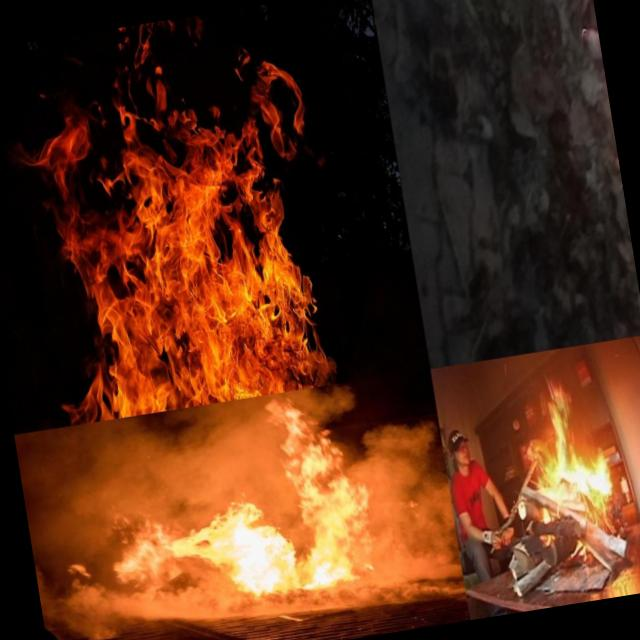fire: (18, 48, 358, 425), (107, 492, 301, 614), (265, 382, 381, 585), (514, 372, 616, 526)
smoke: (26, 394, 287, 536), (348, 417, 462, 599), (141, 574, 374, 640), (34, 548, 143, 640)
